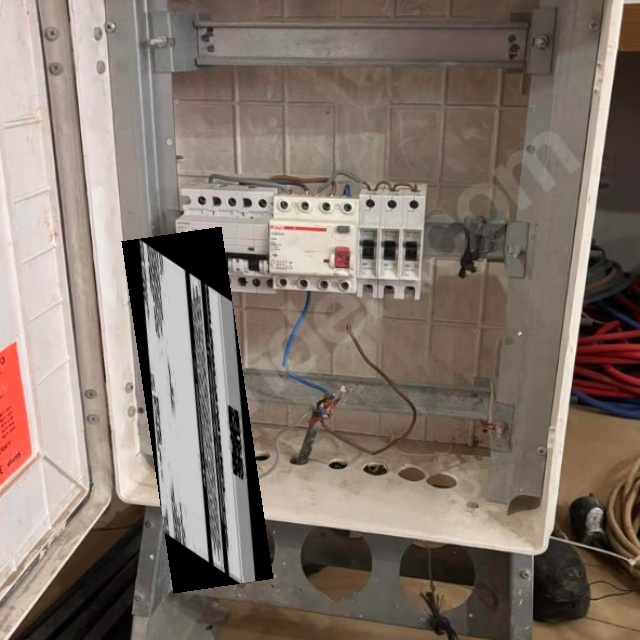electricity-bill: (120, 226, 272, 594)
